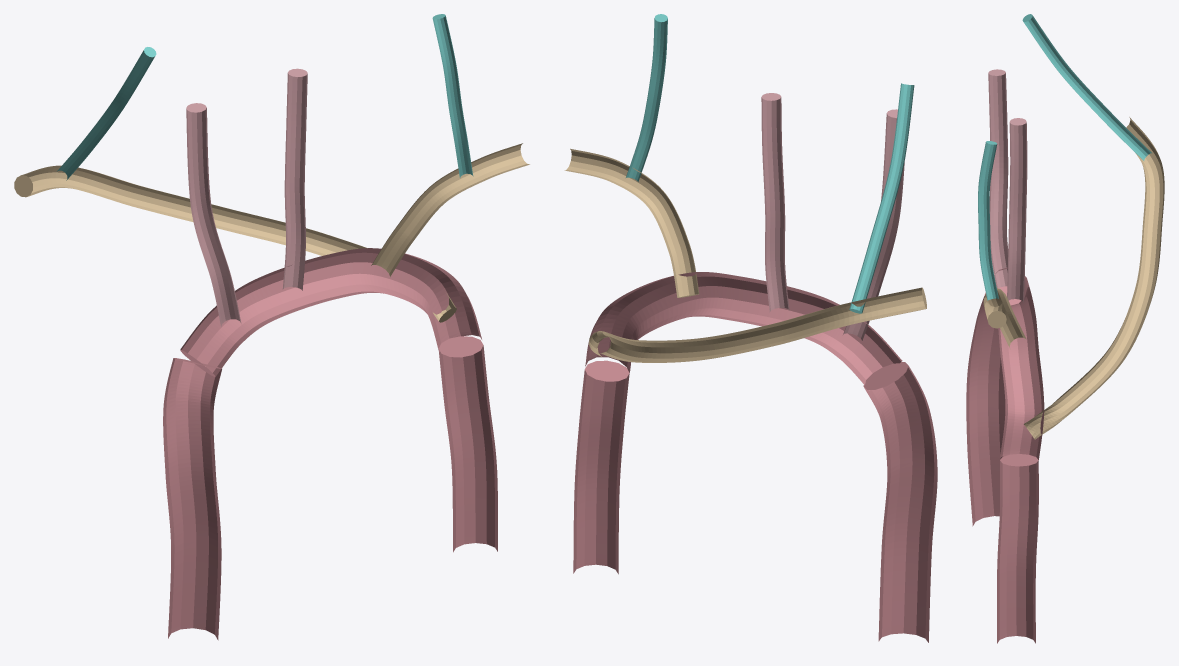
Rendered from arch_aberrantR.glb.
3 views of the same model, side by side, from view 1: azimuth 30°, elevation 25°; view 2: azimuth 150°, elevation 25°; view 3: azimuth 270°, elevation 25° (orthographic). The views are drawn at different scales.
Visible parts, largest first — view 1: Aorta ascendente, Arco aórtico, Aorta descendente, Subclávia direita aberrante, Carótida comum direita — origem isolada, Carótida comum esquerda, Subclávia esquerda, Artéria vertebral esquerda, Vertebral direita na subclávia aberrante; view 2: Aorta ascendente, Arco aórtico, Aorta descendente, Subclávia direita aberrante, Subclávia esquerda, Carótida comum esquerda, Vertebral direita na subclávia aberrante, Artéria vertebral esquerda, Carótida comum direita — origem isolada; view 3: Aorta descendente, Aorta ascendente, Subclávia direita aberrante, Arco aórtico, Carótida comum direita — origem isolada, Carótida comum esquerda, Vertebral direita na subclávia aberrante, Artéria vertebral esquerda, Subclávia esquerda.
Boxes of the visible parts, left/top/right/bottom form: Aorta ascendente: left=163, top=358, right=221, bottom=640; Arco aórtico: left=180, top=248, right=481, bottom=376; Aorta descendente: left=438, top=336, right=497, bottom=552; Subclávia direita aberrante: left=14, top=165, right=456, bottom=322; Carótida comum direita — origem isolada: left=186, top=103, right=241, bottom=326; Carótida comum esquerda: left=282, top=68, right=307, bottom=290; Subclávia esquerda: left=371, top=143, right=529, bottom=276; Artéria vertebral esquerda: left=432, top=14, right=473, bottom=177; Vertebral direita na subclávia aberrante: left=57, top=47, right=156, bottom=180; Aorta ascendente: left=863, top=362, right=937, bottom=642; Arco aórtico: left=585, top=272, right=902, bottom=390; Aorta descendente: left=573, top=360, right=629, bottom=574; Subclávia direita aberrante: left=588, top=287, right=926, bottom=362; Subclávia esquerda: left=564, top=148, right=699, bottom=297; Carótida comum esquerda: left=761, top=93, right=789, bottom=312; Vertebral direita na subclávia aberrante: left=849, top=83, right=914, bottom=313; Artéria vertebral esquerda: left=626, top=14, right=667, bottom=181; Carótida comum direita — origem isolada: left=843, top=109, right=904, bottom=340; Aorta descendente: left=997, top=454, right=1038, bottom=643; Aorta ascendente: left=966, top=286, right=1021, bottom=526; Subclávia direita aberrante: left=1024, top=117, right=1164, bottom=439; Arco aórtico: left=996, top=267, right=1044, bottom=462; Carótida comum direita — origem isolada: left=988, top=69, right=1008, bottom=288; Carótida comum esquerda: left=1007, top=118, right=1027, bottom=302; Vertebral direita na subclávia aberrante: left=1022, top=14, right=1151, bottom=160; Artéria vertebral esquerda: left=978, top=141, right=998, bottom=300; Subclávia esquerda: left=983, top=288, right=1026, bottom=347.
Size of the model in its own units: 7.81 by 9.98 by 3.58.
